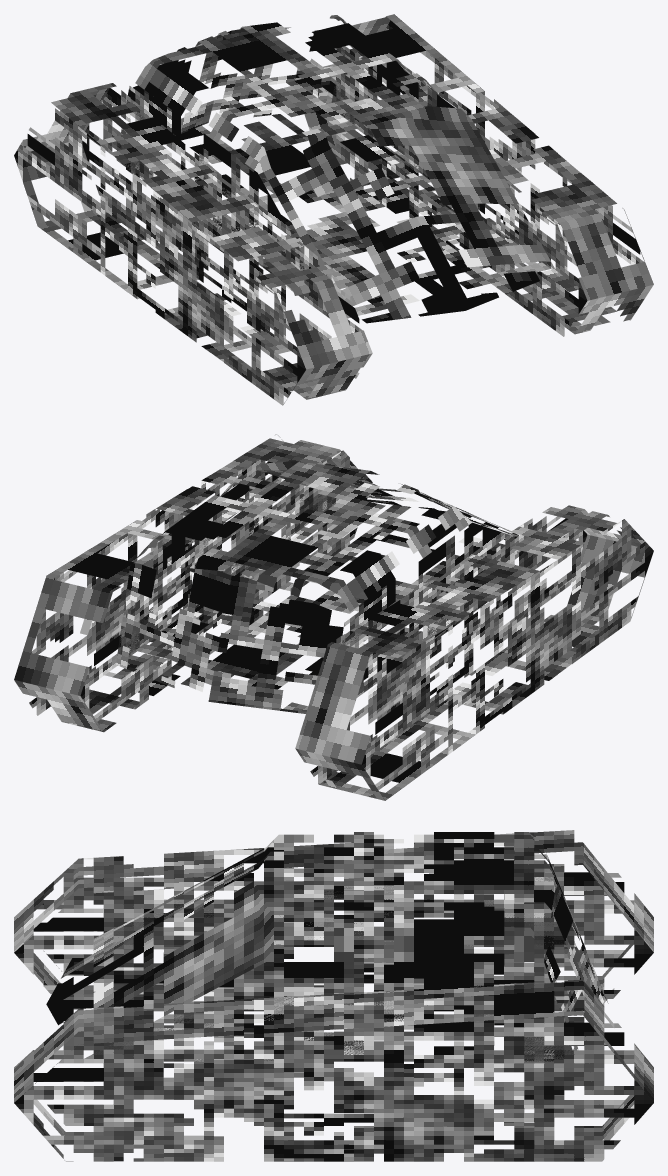
File: legion_wreck.glb
The picture shows the model from 3 angles, top to bottom: view 1: azimuth 30°, elevation 25°; view 2: azimuth 150°, elevation 25°; view 3: azimuth 270°, elevation 25°; orthographic projection. The views are drawn at different scales.
Visible parts, largest first — view 1: LegionL1Dam; view 2: LegionL1Dam; view 3: LegionL1Dam.
Boxes of the visible parts, box(x1,y1,x2,y2) form: LegionL1Dam: box(14, 14, 653, 405); LegionL1Dam: box(14, 434, 653, 800); LegionL1Dam: box(14, 830, 653, 1161).
Size of the model in its own units: 8.82 by 4.15 by 12.84.
Materials: 1 (1 with a texture image).
